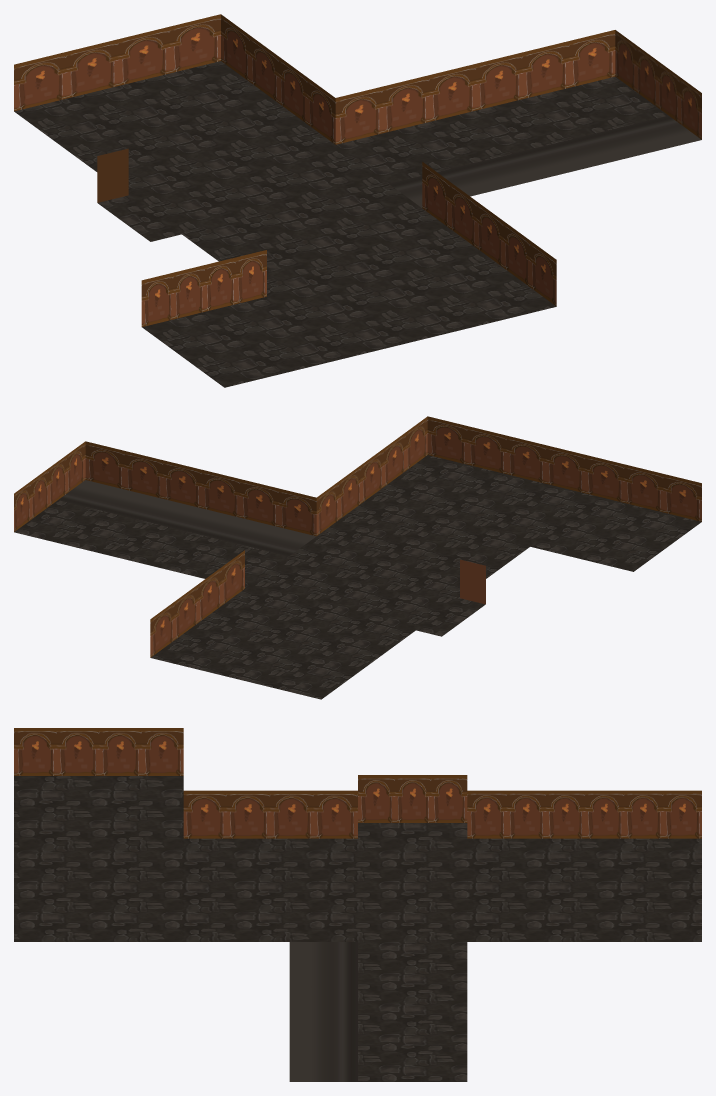
Rendered from Test_Map.glb.
The picture shows the model from 3 angles, top to bottom: view 1: azimuth 30°, elevation 25°; view 2: azimuth 150°, elevation 25°; view 3: azimuth 270°, elevation 25°; orthographic projection. The views are drawn at different scales.
Parts seen in each view (by area): view 1: Floor, Walls; view 2: Floor, Walls; view 3: Floor, Walls.
Part boxes in pixels (<box>): Floor: <box>14,61,701,387</box>; Walls: <box>14,14,701,326</box>; Floor: <box>14,455,701,699</box>; Walls: <box>14,416,701,657</box>; Floor: <box>14,776,701,1081</box>; Walls: <box>14,728,701,838</box>.
Size of the model in its own units: 31.42 by 2.3 by 29.86.
2 materials, 2 textured.
